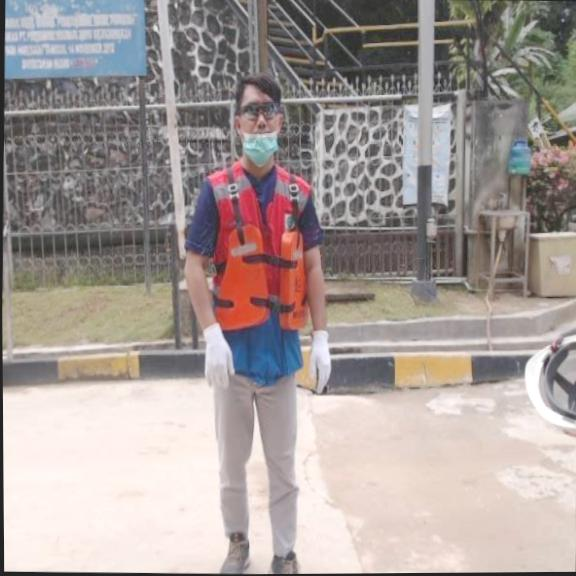safety_vest: (212, 217, 310, 331)
